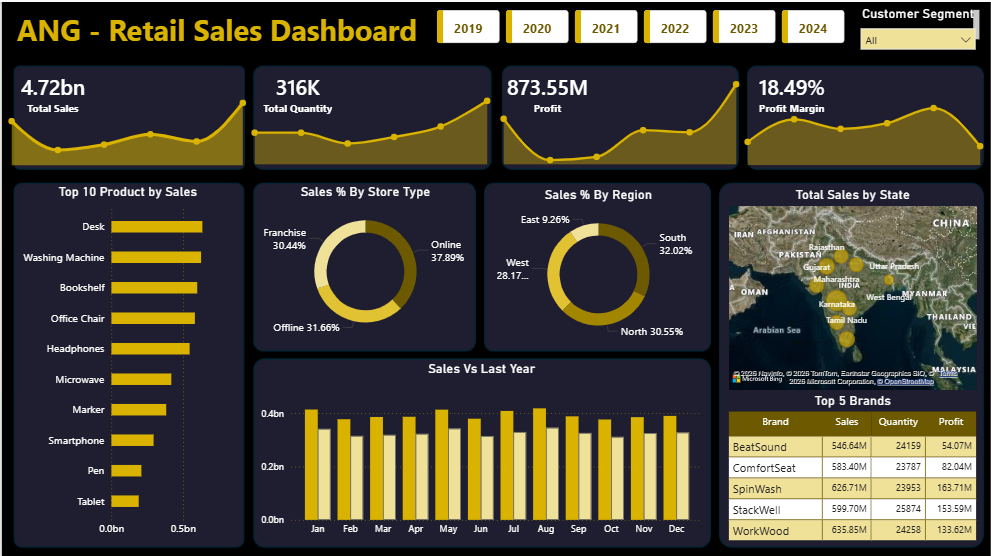

Layout of this report page (visuals, bound fields, positions):
{"tool":"powerbi","page":{"name":"Page 1","canvas":[1280,720],"ordinal":0},"visuals":[{"type":"textbox","box":[16.7,5,1251.7,53.3],"z":0},{"type":"cardVisual","fields":{"Data":["1_Measures.Profit Margin"]},"box":[965,86.7,113.3,63.3],"z":1000},{"type":"cardVisual","fields":{"Data":["1_Measures.Total Sales"]},"box":[16.7,86.7,103.3,63.3],"z":2000},{"type":"cardVisual","fields":{"Data":["1_Measures.Total Quantity"]},"box":[328.3,86.7,113.3,63.3],"z":3000},{"type":"cardVisual","fields":{"Data":["1_Measures.Profit"]},"box":[643.3,86.7,125,63.3],"z":4000},{"type":"areaChart","fields":{"Y":["1_Measures.Total Sales"],"Category":["Calender_Table.Year"]},"box":[0,100,328.3,115],"z":5000},{"type":"areaChart","fields":{"Category":["Calender_Table.Year"],"Y":["1_Measures.Total Quantity"]},"box":[313.3,86.7,330,128.3],"z":6000},{"type":"areaChart","fields":{"Category":["Calender_Table.Year"],"Y":["1_Measures.Profit"]},"box":[635,86.7,330,128.3],"z":7000},{"type":"areaChart","fields":{"Category":["Calender_Table.Year"],"Y":["1_Measures.Profit Margin"]},"box":[950,118.3,330,96.7],"z":8000},{"type":"barChart","title":"Top 10 Product by Sales","fields":{"Y":["1_Measures.Total Sales"],"Category":["Product.ProductName"]},"box":[16.7,235,296.7,463.3],"z":9000},{"type":"donutChart","title":"Sales % By Store Type","fields":{"Y":["1_Measures.Total Sales"],"Category":["Store.StoreType"]},"box":[331.7,235,280,206.7],"z":10000},{"type":"donutChart","title":"Sales % By Region","fields":{"Y":["1_Measures.Total Sales"],"Category":["Customer.Region"]},"box":[631.7,238.3,280,206.7],"z":11000},{"type":"clusteredColumnChart","title":"Sales Vs Last Year","fields":{"Category":["Calender_Table.Month Name"],"Y":["1_Measures.Total Sales","1_Measures.Sales LY"]},"box":[331.7,463.3,580,235],"z":12000},{"type":"map","fields":{"Category":["Store.State"],"Size":["1_Measures.Total Sales"]},"box":[935,238.3,330,266.7],"z":13000},{"type":"pivotTable","title":"Top 5 Brands","fields":{"Rows":["Product.Brand"],"Values":["1_Measures.Total Sales","1_Measures.Total Quantity","1_Measures.Profit"]},"box":[935,505,330,215],"z":14000},{"type":"advancedSlicerVisual","fields":{"Values":["Calender_Table.Year"]},"box":[558.3,5,541.7,53.3],"z":15000},{"type":"slicer","title":"Customer Segment","fields":{"Values":["Customer.Segment"]},"box":[1100,5,168.3,70],"z":16000}]}

Visuals, with their boxes in screenshot pixels (x1, y1, x2, y2), scaled from the page's 1280x720 canvas onto the 991x556 screenshot:
textbox: box(13, 4, 982, 45)
cardVisual - 1_Measures.Profit Margin: box(747, 67, 835, 116)
cardVisual - 1_Measures.Total Sales: box(13, 67, 93, 116)
cardVisual - 1_Measures.Total Quantity: box(254, 67, 342, 116)
cardVisual - 1_Measures.Profit: box(498, 67, 595, 116)
areaChart - 1_Measures.Total Sales x Calender_Table.Year: box(0, 77, 254, 166)
areaChart - Calender_Table.Year x 1_Measures.Total Quantity: box(243, 67, 498, 166)
areaChart - Calender_Table.Year x 1_Measures.Profit: box(492, 67, 747, 166)
areaChart - Calender_Table.Year x 1_Measures.Profit Margin: box(736, 91, 990, 166)
"Top 10 Product by Sales" barChart: box(13, 181, 243, 539)
"Sales % By Store Type" donutChart: box(257, 181, 474, 341)
"Sales % By Region" donutChart: box(489, 184, 706, 344)
"Sales Vs Last Year" clusteredColumnChart: box(257, 358, 706, 539)
map - Store.State x 1_Measures.Total Sales: box(724, 184, 979, 390)
"Top 5 Brands" pivotTable: box(724, 390, 979, 555)
advancedSlicerVisual - Calender_Table.Year: box(432, 4, 852, 45)
"Customer Segment" slicer: box(852, 4, 982, 58)
